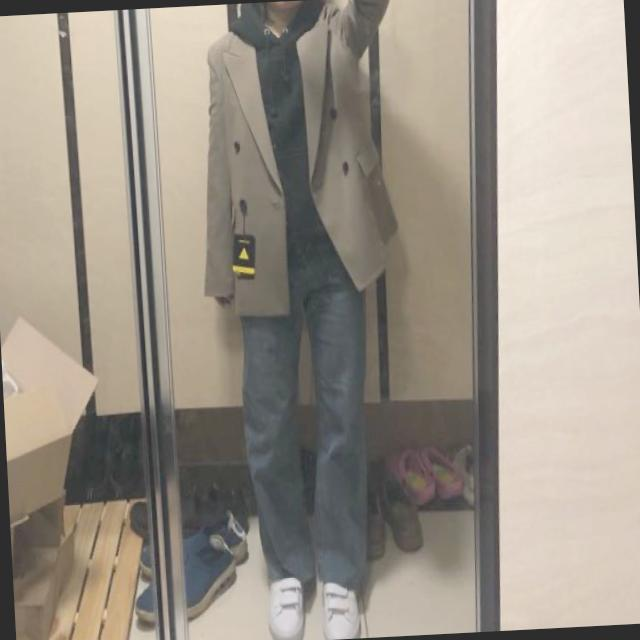blazer: (188, 0, 407, 323)
denimpants: (231, 201, 383, 598)
